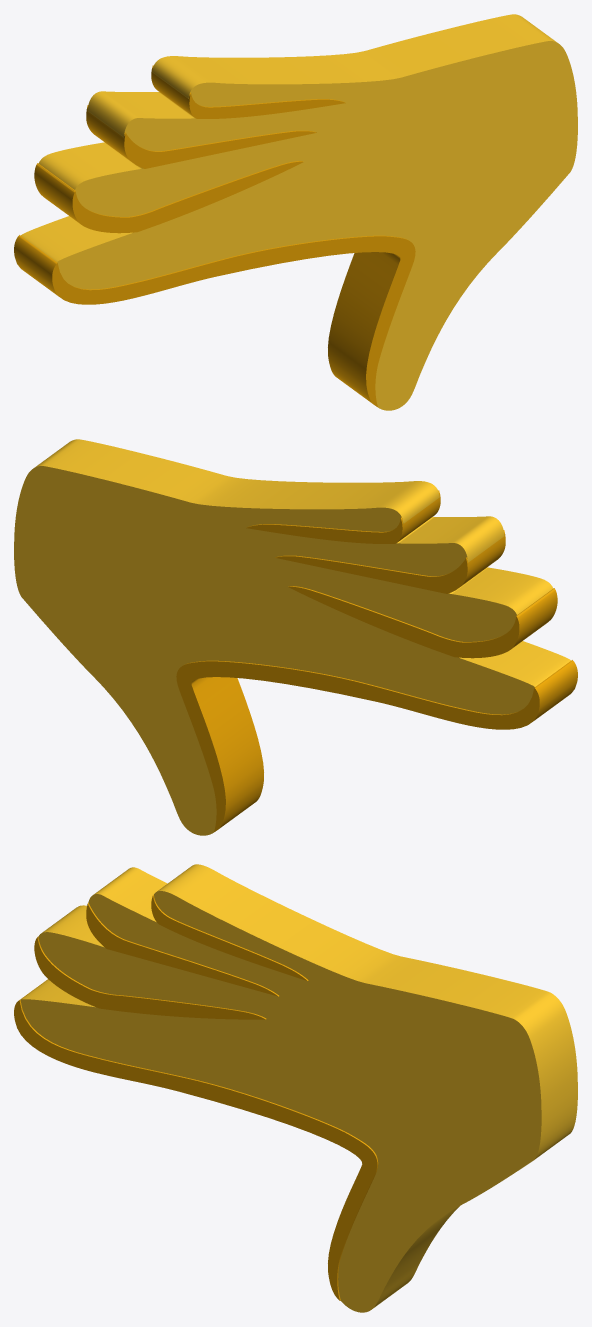
File: paper.glb
The picture shows the model from 3 angles, top to bottom: view 1: azimuth 30°, elevation 25°; view 2: azimuth 150°, elevation 25°; view 3: azimuth 330°, elevation 25°; orthographic projection.
Visible parts, largest first — view 1: hand_5_, Curve, Curve.004, Curve.003, Curve.002; view 2: hand_5_, Curve, Curve.004, Curve.003, Curve.002; view 3: hand_5_, Curve, Curve.004, Curve.003, Curve.002.
Part boxes in pixels (x1,y1,x2,y2): hand_5_: (21, 14, 577, 410); Curve: (14, 235, 415, 406); Curve.004: (34, 161, 303, 233); Curve.003: (86, 105, 316, 168); Curve.002: (151, 65, 345, 118); hand_5_: (14, 439, 570, 835); Curve: (176, 660, 577, 831); Curve.004: (288, 586, 557, 658); Curve.003: (275, 530, 505, 593); Curve.002: (246, 490, 440, 543); hand_5_: (20, 864, 577, 1312); Curve: (14, 979, 378, 1300); Curve.004: (34, 936, 266, 1019); Curve.003: (86, 903, 279, 996); Curve.002: (151, 895, 308, 980).
Size of the model in its own units: 3.34 by 2.27 by 0.42.
